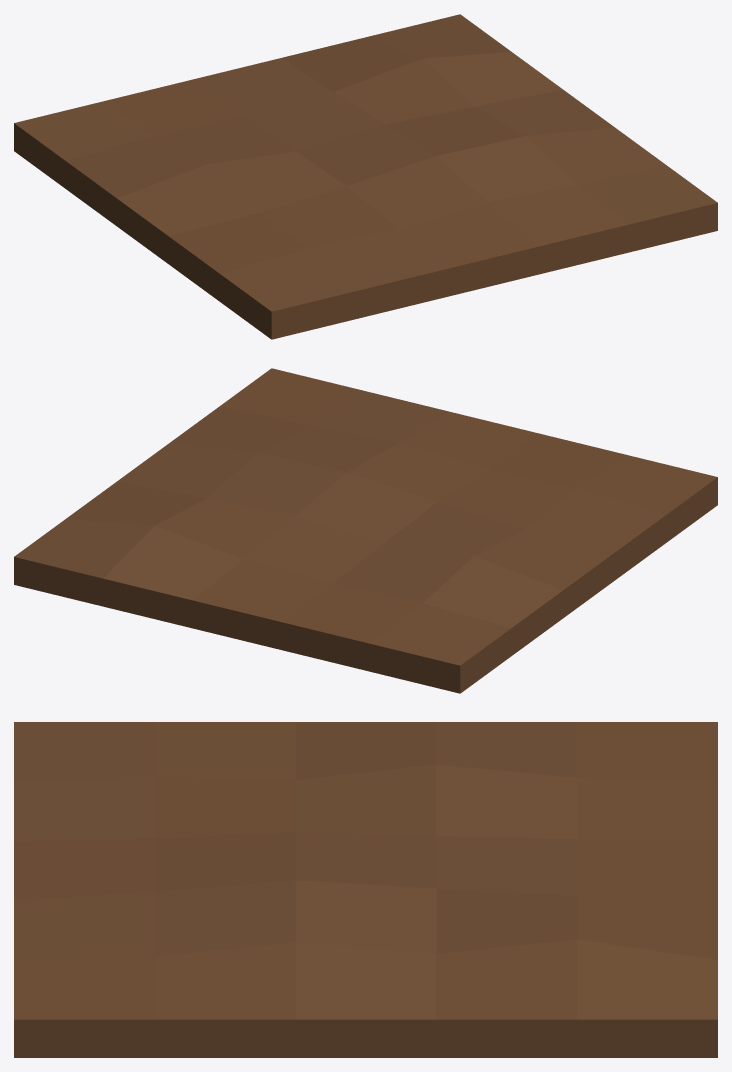
Rendered from soil_raw.glb.
The picture shows the model from 3 angles, top to bottom: view 1: azimuth 30°, elevation 25°; view 2: azimuth 150°, elevation 25°; view 3: azimuth 270°, elevation 25°; orthographic projection. The views are drawn at different scales.
Visible parts, largest first — view 1: soil_raw; view 2: soil_raw; view 3: soil_raw.
Part boxes in pixels (box(x1,y1,x2,y2)): soil_raw: box(14, 14, 717, 339); soil_raw: box(14, 368, 717, 693); soil_raw: box(14, 722, 717, 1057).
Bounding box in the file's own units: 1 × 0.0925 × 1.
